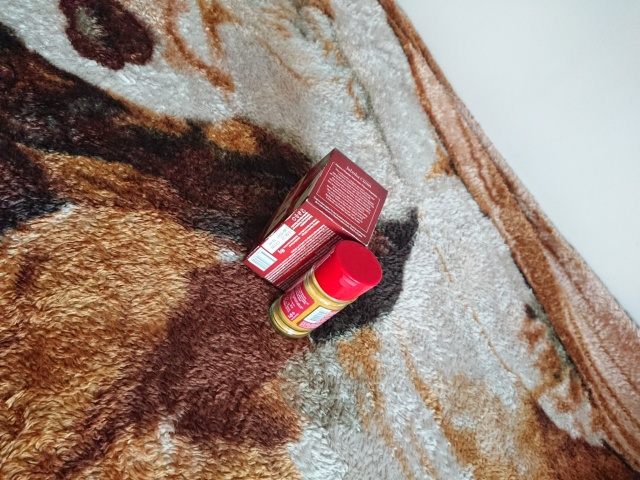Franck Apple Cinnamon Tea 60g: (240, 145, 391, 304)
Kotanyi Curry Spices Mix 70g: (265, 236, 384, 342)
